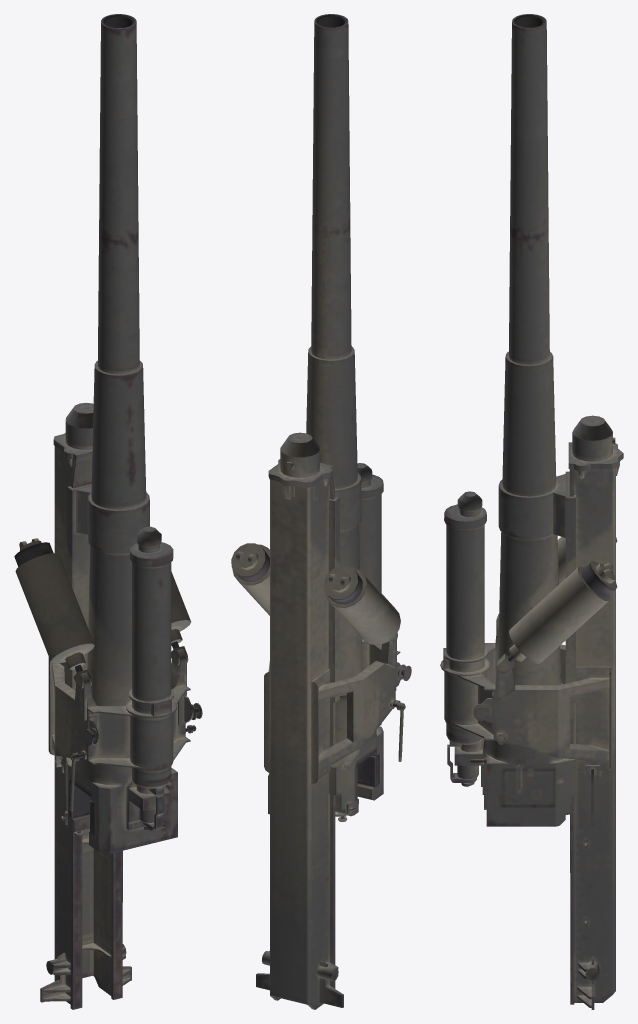
Rendered from Gun_03.glb.
3 renders of one model, left to right at view 1: azimuth 30°, elevation 25°; view 2: azimuth 150°, elevation 25°; view 3: azimuth 270°, elevation 25°, orthographic. The views are drawn at different scales.
Parts seen in each view (by area): view 1: set_0_group_0, set_0_group_1; view 2: set_0_group_0, set_0_group_1; view 3: set_0_group_0, set_0_group_1.
Part boxes in pixels (x1=…): set_0_group_0: x1=14, y1=14, x2=202, y2=1009; set_0_group_1: x1=15, y1=538, x2=190, y2=811; set_0_group_0: x1=235, y1=14, x2=411, y2=1009; set_0_group_1: x1=231, y1=543, x2=404, y2=761; set_0_group_0: x1=440, y1=14, x2=623, y2=1009; set_0_group_1: x1=497, y1=537, x2=617, y2=673.
Bounding box in the file's own units: 0.8427 × 5.85 × 0.9995.
Materials: 2 (2 with a texture image).
